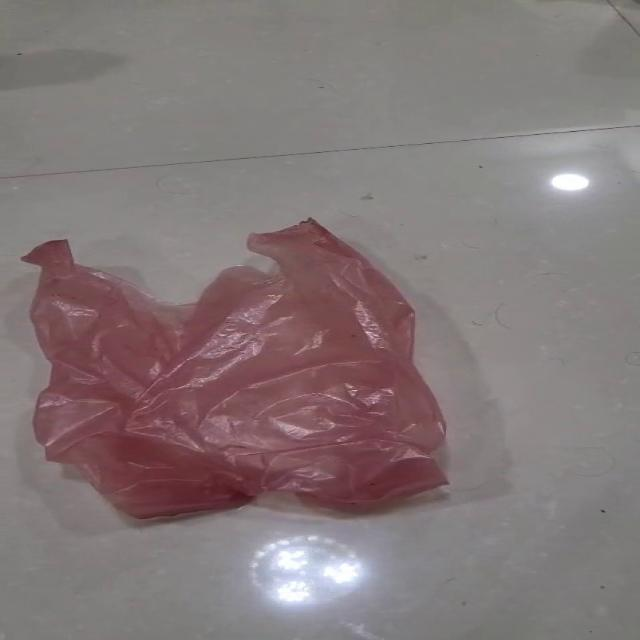plastic: (20, 216, 450, 520)
